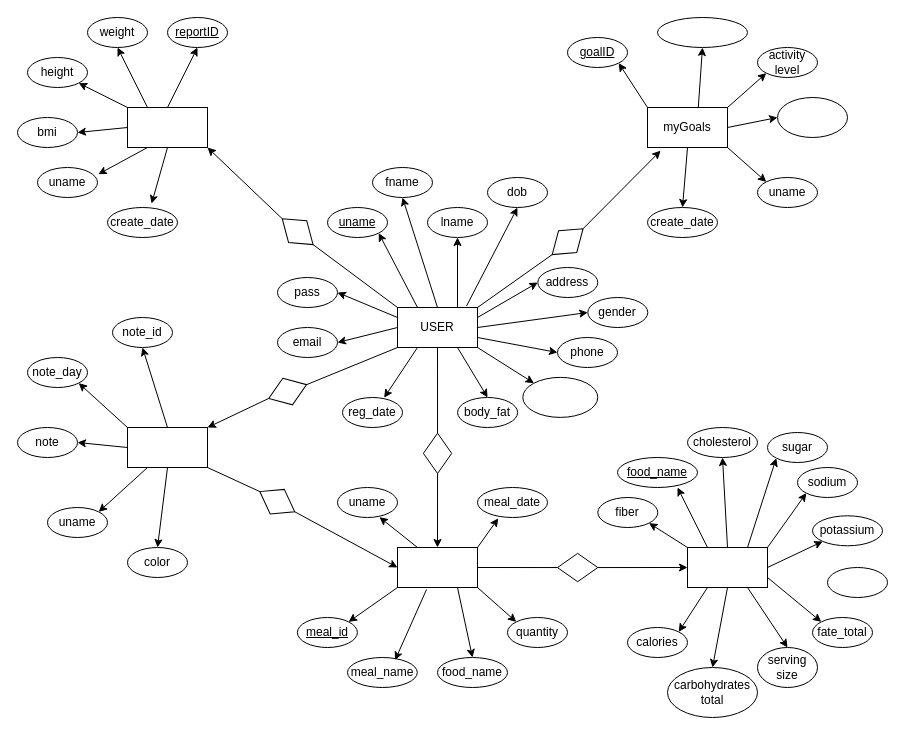
Image size: 905x735. Some labels were removed from this diagram. The shapes that lost their labels are listed below. From the top down, each one's centre as x and y in pixels, then its label:
At [702,32]: "target_weight".
At [167,127]: "healthReport".
At [812,117]: "weight gain pace".
At [560,396]: "medical history".
At [167,447]: "healthNote".
At [437,567]: "Meal".
At [727,567]: "Nutrition".
At [857,582]: "protein".
